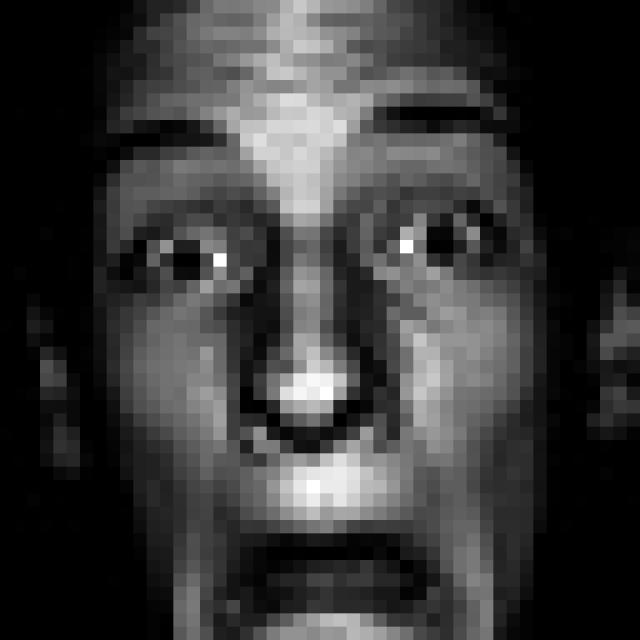fear: (98, 69, 540, 640)
